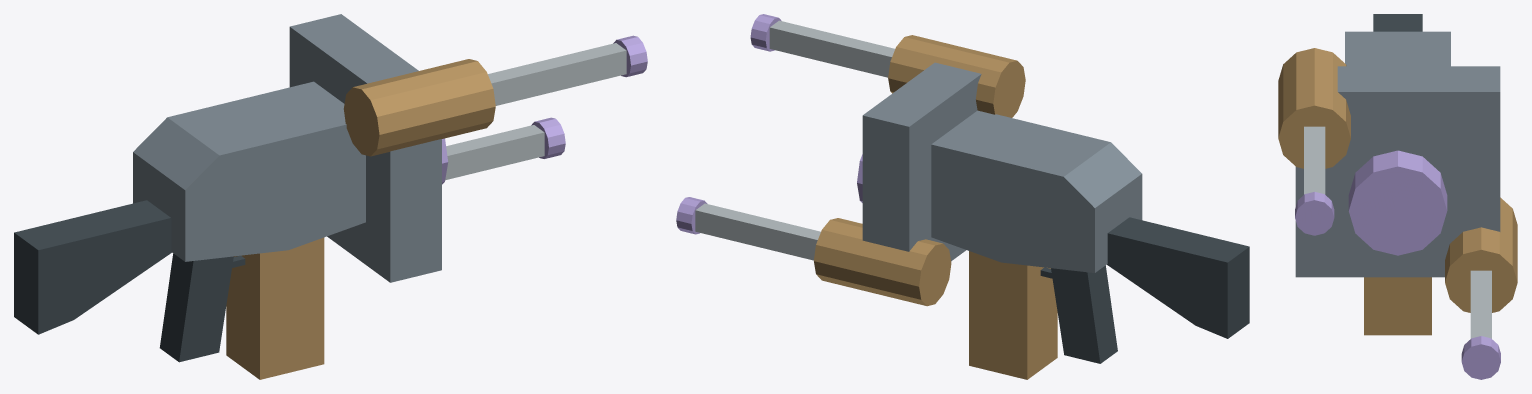
The model's file is w16-forked-benediction-static.glb.
The picture shows the model from 3 angles, left to right: view 1: azimuth 30°, elevation 25°; view 2: azimuth 150°, elevation 25°; view 3: azimuth 270°, elevation 25°; orthographic projection. The views are drawn at different scales.
Visible parts, largest first — view 1: w16-forked-benediction__receiver.001, w16-forked-benediction__fork_crosshead.001, w16-forked-benediction__stock.001, w16-forked-benediction__power_cell.001, w16-forked-benediction__coil_0.001, w16-forked-benediction__grip.001, w16-forked-benediction__prong_0.001, w16-forked-benediction__prong_1.001, w16-forked-benediction__electrode_tip_0.001, w16-forked-benediction__electrode_tip_1.001; view 2: w16-forked-benediction__receiver.001, w16-forked-benediction__fork_crosshead.001, w16-forked-benediction__stock.001, w16-forked-benediction__power_cell.001, w16-forked-benediction__coil_1.001, w16-forked-benediction__coil_0.001, w16-forked-benediction__grip.001, w16-forked-benediction__prong_0.001, w16-forked-benediction__prong_1.001, w16-forked-benediction__electrode_tip_1.001, w16-forked-benediction__electrode_tip_0.001; view 3: w16-forked-benediction__fork_crosshead.001, w16-forked-benediction__central_emitter.001, w16-forked-benediction__coil_0.001, w16-forked-benediction__coil_1.001, w16-forked-benediction__power_cell.001, w16-forked-benediction__receiver.001, w16-forked-benediction__prong_1.001, w16-forked-benediction__prong_0.001, w16-forked-benediction__electrode_tip_0.001, w16-forked-benediction__electrode_tip_1.001, w16-forked-benediction__stock.001.
Boxes of the visible parts, x1,y1,x2,y2 form: w16-forked-benediction__receiver.001: (133,81,365,261); w16-forked-benediction__fork_crosshead.001: (289,14,441,282); w16-forked-benediction__stock.001: (14,200,171,334); w16-forked-benediction__power_cell.001: (226,237,324,379); w16-forked-benediction__coil_0.001: (343,59,495,156); w16-forked-benediction__grip.001: (159,253,233,362); w16-forked-benediction__prong_0.001: (488,43,626,105); w16-forked-benediction__prong_1.001: (445,125,544,180); w16-forked-benediction__electrode_tip_0.001: (613,35,647,77); w16-forked-benediction__electrode_tip_1.001: (531,117,565,158); w16-forked-benediction__receiver.001: (931,110,1142,272); w16-forked-benediction__fork_crosshead.001: (862,62,981,261); w16-forked-benediction__stock.001: (1107,217,1249,338); w16-forked-benediction__power_cell.001: (969,251,1057,379); w16-forked-benediction__coil_1.001: (814,218,951,306); w16-forked-benediction__coil_0.001: (888,35,1025,117); w16-forked-benediction__grip.001: (1051,265,1117,363); w16-forked-benediction__prong_0.001: (769,20,894,77); w16-forked-benediction__prong_1.001: (695,203,820,260); w16-forked-benediction__electrode_tip_1.001: (676,197,707,234); w16-forked-benediction__electrode_tip_0.001: (750,14,781,51); w16-forked-benediction__fork_crosshead.001: (1295,66,1500,277); w16-forked-benediction__central_emitter.001: (1348,150,1447,255); w16-forked-benediction__coil_0.001: (1278,48,1350,168); w16-forked-benediction__coil_1.001: (1445,197,1517,312); w16-forked-benediction__power_cell.001: (1364,277,1431,335); w16-forked-benediction__receiver.001: (1345,31,1450,66); w16-forked-benediction__prong_1.001: (1470,270,1491,338); w16-forked-benediction__prong_0.001: (1304,126,1325,194); w16-forked-benediction__electrode_tip_0.001: (1295,191,1334,235); w16-forked-benediction__electrode_tip_1.001: (1461,336,1500,379); w16-forked-benediction__stock.001: (1373,14,1422,31).
Size of the model in its own units: 0.8836 by 0.428 by 0.316.
